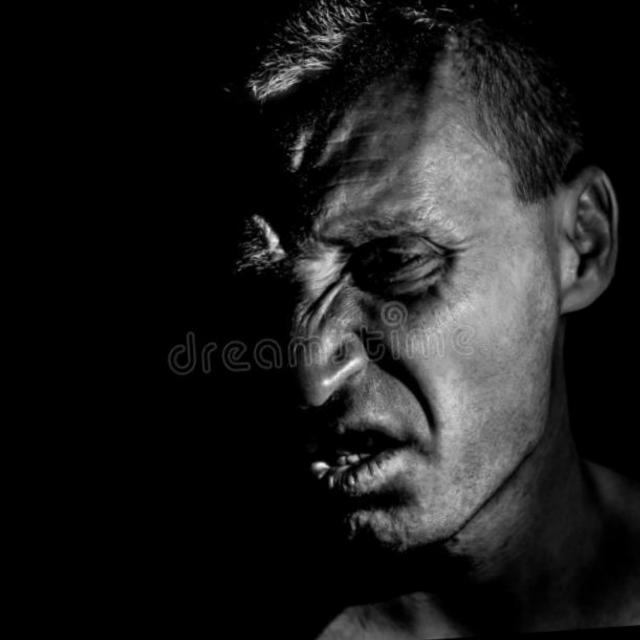angry: (162, 75, 612, 533)
